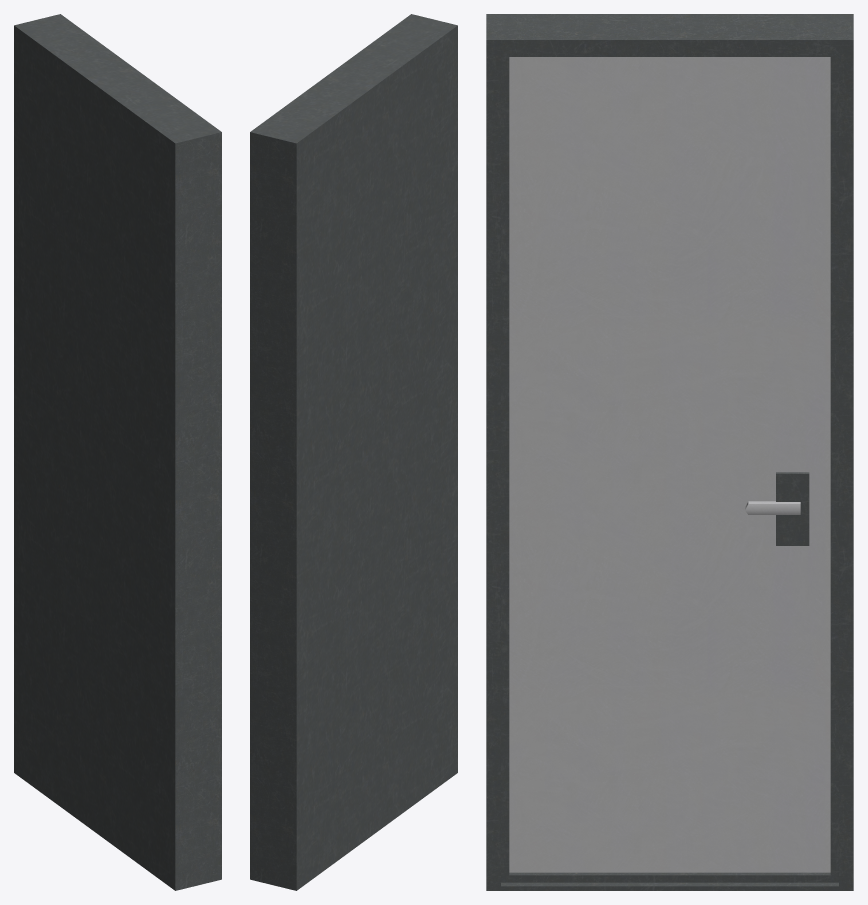
The model's file is SM_Door.fbx.
3 views of the same model, side by side, from view 1: azimuth 30°, elevation 25°; view 2: azimuth 150°, elevation 25°; view 3: azimuth 270°, elevation 25° (orthographic). The views are drawn at different scales.
Visible parts, largest first — view 1: SM_Door; view 2: SM_Door; view 3: SM_Door.
Part boxes in pixels (x1=…): SM_Door: x1=14, y1=14, x2=221, y2=890; SM_Door: x1=250, y1=14, x2=457, y2=890; SM_Door: x1=486, y1=14, x2=853, y2=890.
Bounding box in the file's own units: 15 × 230 × 90.
2 materials, 2 textured.
